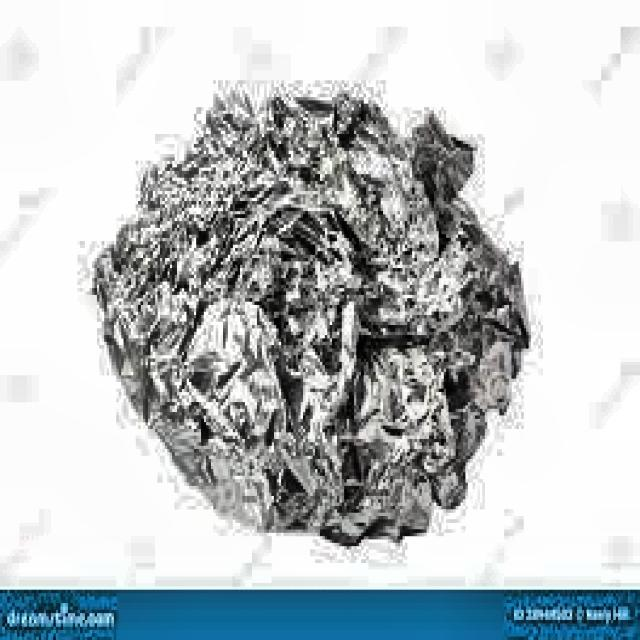Foil: (102, 63, 536, 563)
